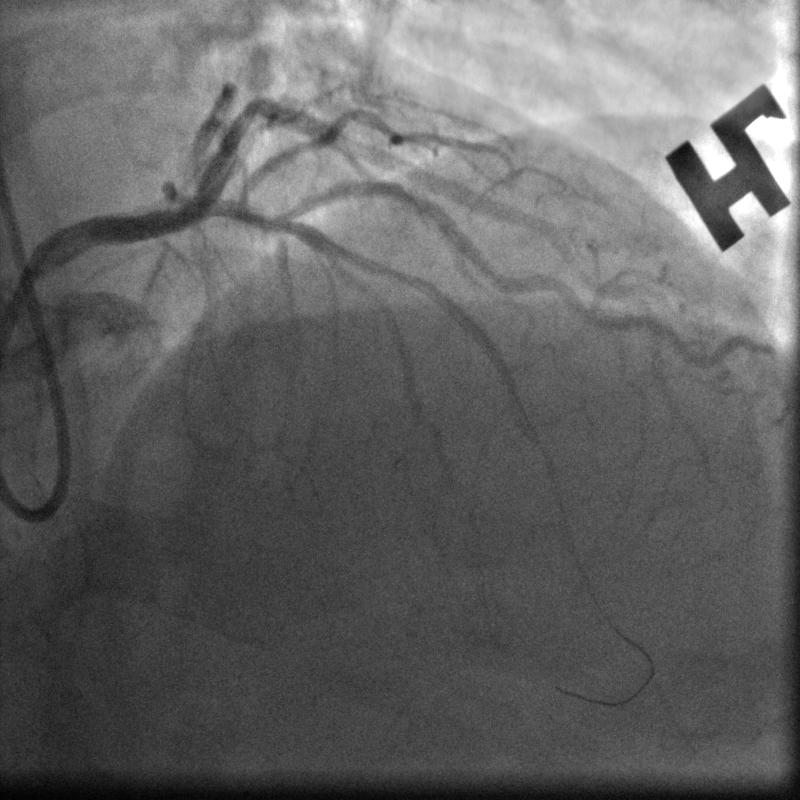Stenosis: (389, 177, 432, 217)
